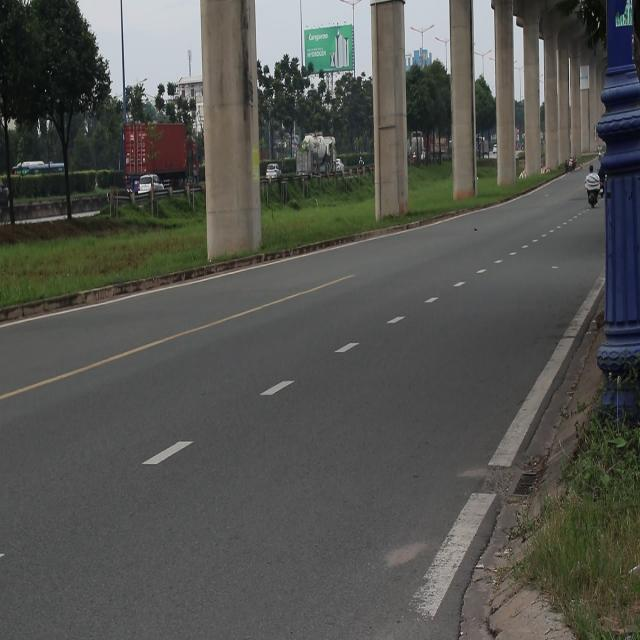car: (127, 176, 169, 199), (14, 161, 63, 177), (263, 163, 283, 180)
motorbike: (582, 178, 596, 210), (598, 172, 606, 208)
truck: (124, 124, 194, 190), (295, 138, 317, 188)
